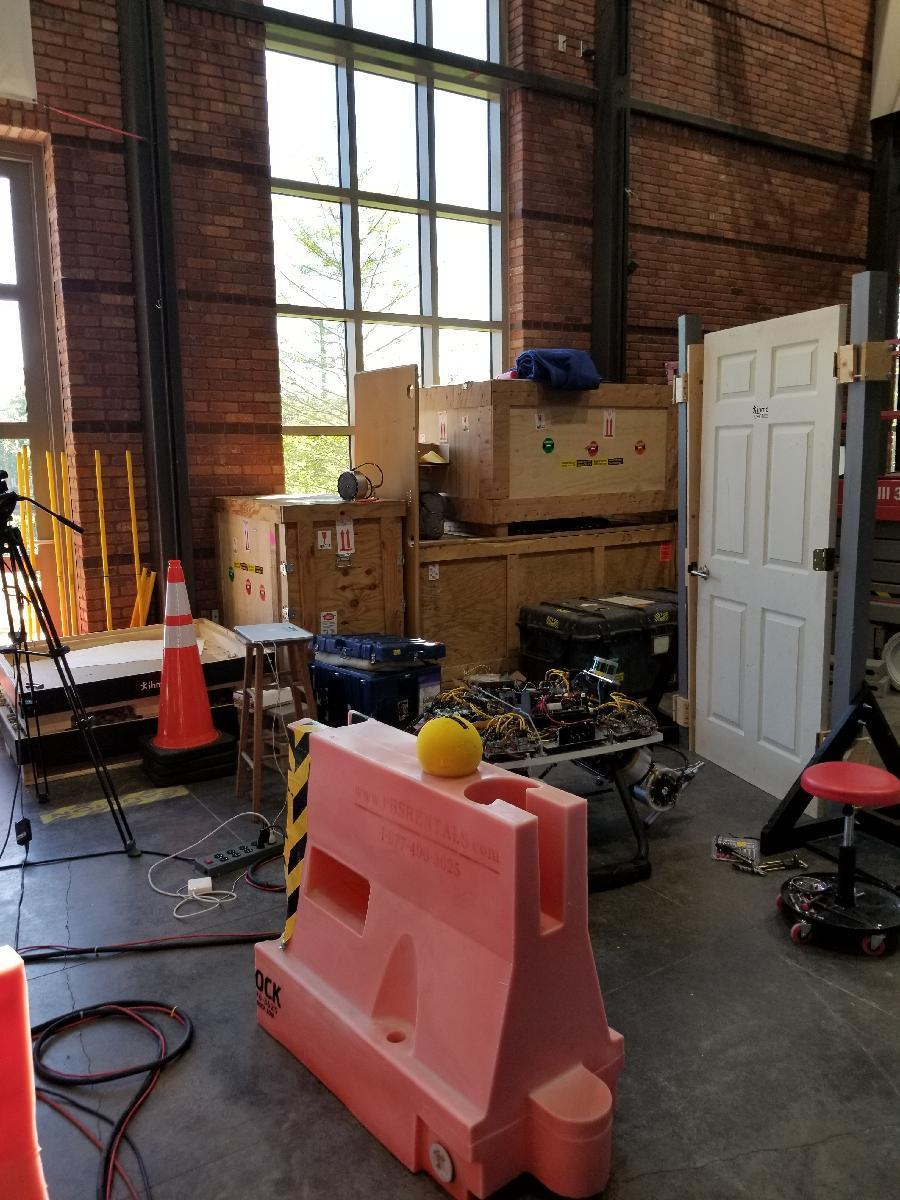door: (694, 326, 839, 795)
